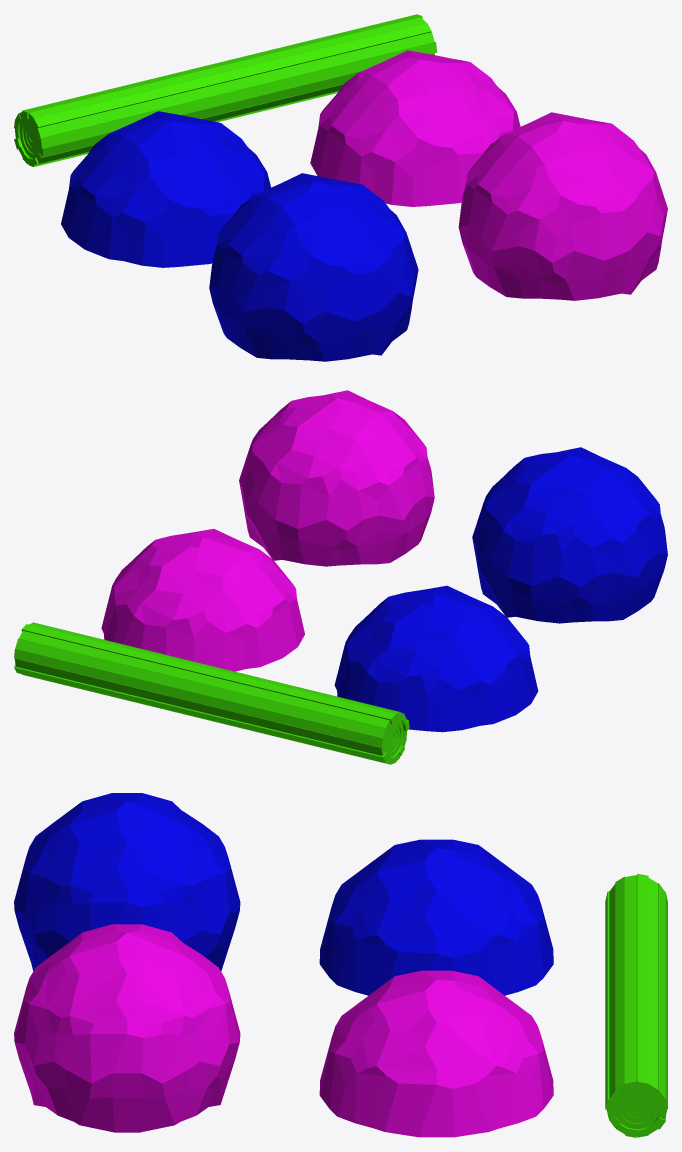
Rendered from planks.fbx.
3 views of the same model, one above another, from view 1: azimuth 30°, elevation 25°; view 2: azimuth 150°, elevation 25°; view 3: azimuth 270°, elevation 25° (orthographic). The views are drawn at different scales.
Parts seen in each view (by area): view 1: ijzer2, stone2.001, ijzer, stone.001, wood; view 2: ijzer2, stone2.001, ijzer, wood, stone.001; view 3: stone2.001, stone.001, ijzer2, ijzer, wood.
Boxes of the visible parts, box(x1,y1,x2,y2) form: ijzer2: box(209, 173, 418, 361); stone2.001: box(458, 112, 667, 300); ijzer: box(61, 111, 270, 267); stone.001: box(310, 50, 520, 206); wood: box(14, 14, 436, 166); ijzer2: box(472, 447, 667, 623); stone2.001: box(239, 390, 434, 566); ijzer: box(334, 585, 538, 732); wood: box(14, 622, 409, 764); stone.001: box(101, 529, 304, 671); stone2.001: box(14, 924, 240, 1132); stone.001: box(319, 970, 553, 1137); ijzer2: box(14, 793, 240, 971); ijzer: box(319, 839, 553, 995); wood: box(605, 873, 667, 1137).
Bounding box in the file's own units: 9.32 × 3 × 11.16.
